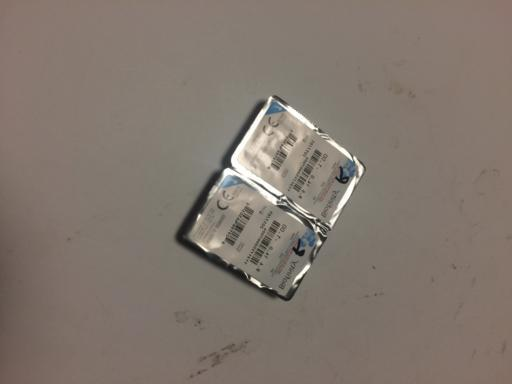trash: (175, 94, 368, 301)
